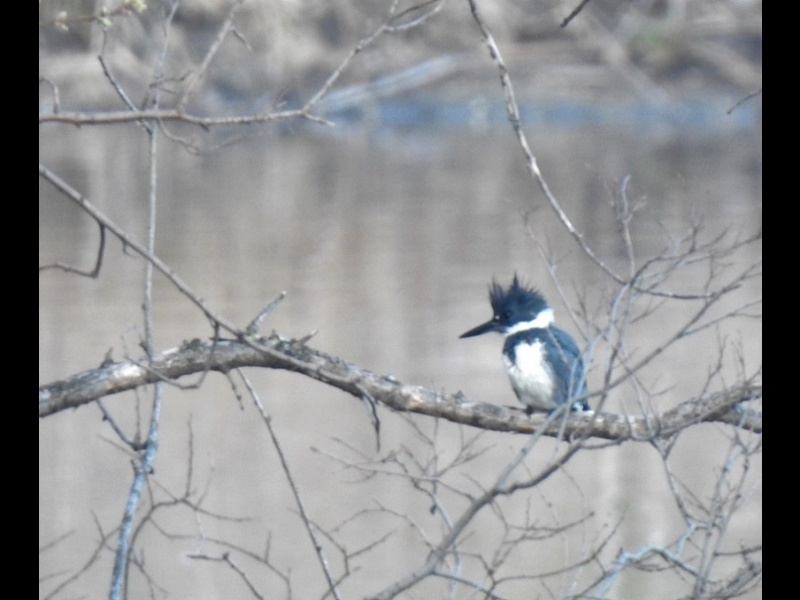kingfisher: (457, 277, 595, 421)
